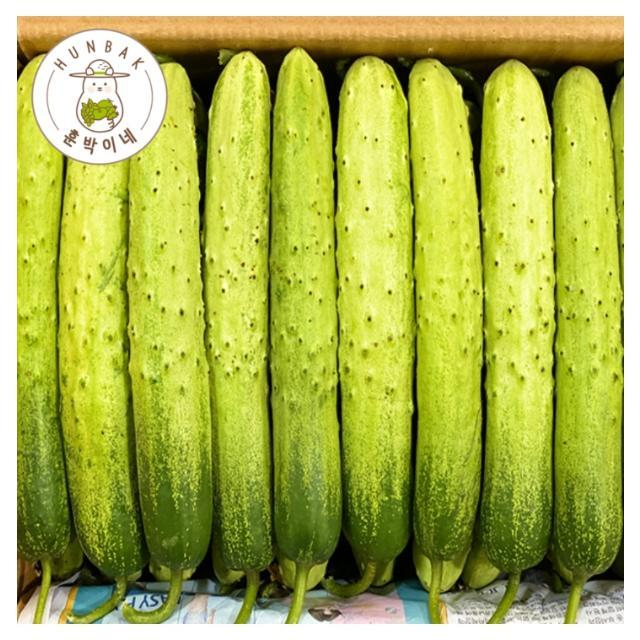cucumber: (213, 28, 477, 616)
